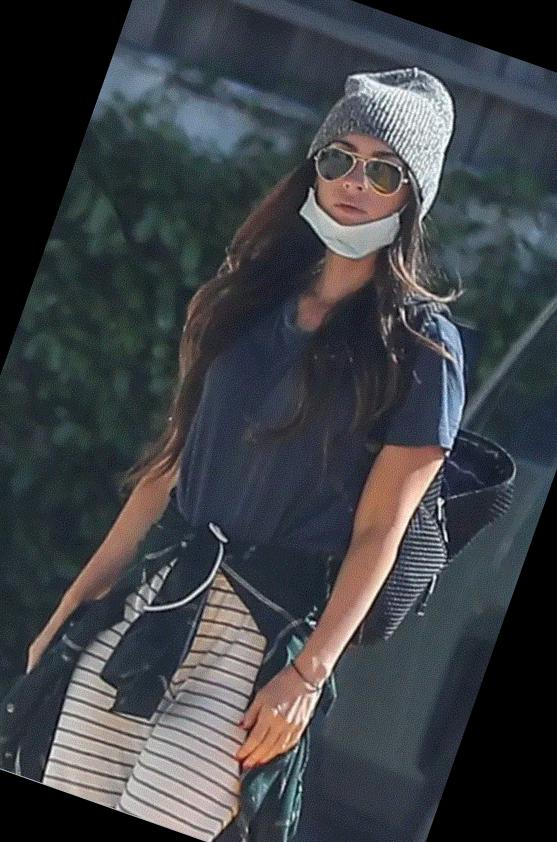mask_weared_incorrect: (293, 138, 418, 257)
